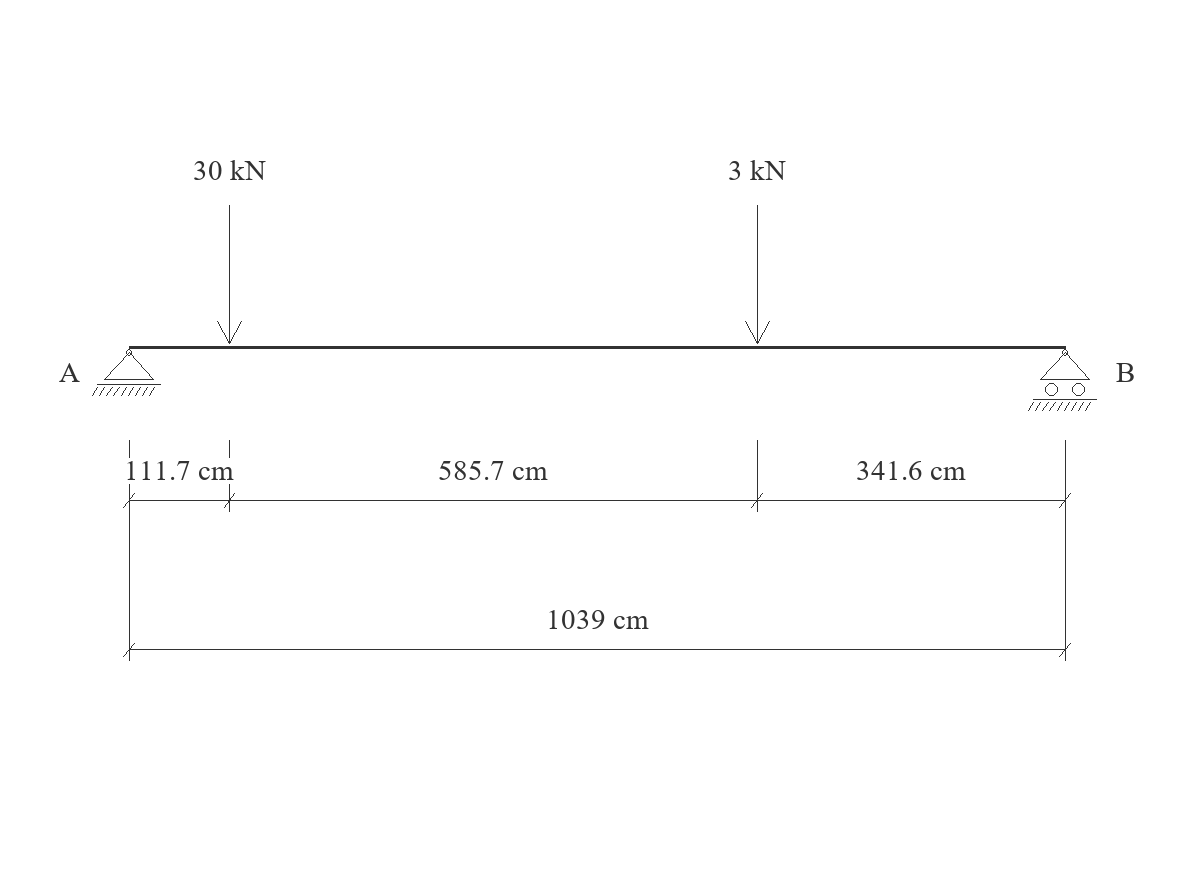pin_support: (92, 349, 161, 396)
point_load: (217, 205, 242, 344), (745, 205, 770, 344)
roller_support: (1028, 349, 1097, 411)
